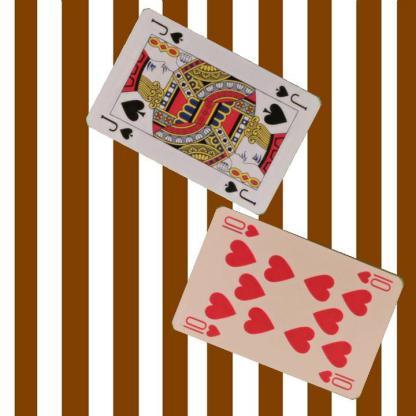10h: (182, 313, 223, 339), (355, 267, 393, 293)
Js: (273, 82, 309, 112), (98, 111, 134, 141)
